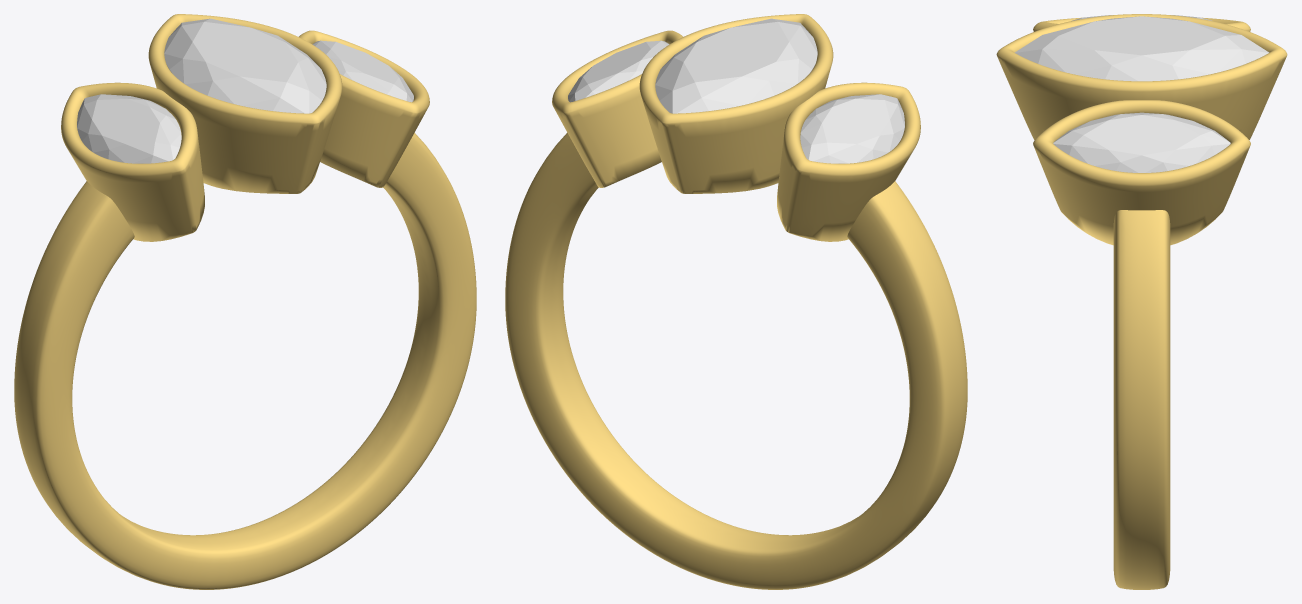
File: diamond-marquise-yellowgold-bezelset-straightband-3stone.glb
3 views of the same model, side by side, from view 1: azimuth 30°, elevation 25°; view 2: azimuth 150°, elevation 25°; view 3: azimuth 270°, elevation 25° (orthographic).
Parts seen in each view (by area): view 1: metal.002, stone.003, side.007, side.006; view 2: metal.002, stone.003, side.007, side.006; view 3: metal.002, stone.003, side.006.
Part boxes in pixels (box(x1,y1,x2,y2)): metal.002: box(14, 14, 476, 589); stone.003: box(164, 18, 326, 113); side.007: box(77, 94, 181, 163); side.006: box(312, 40, 413, 102); metal.002: box(505, 14, 967, 589); stone.003: box(655, 18, 817, 113); side.007: box(800, 94, 904, 163); side.006: box(568, 40, 669, 102); metal.002: box(996, 14, 1287, 589); stone.003: box(1014, 16, 1269, 81); side.006: box(1053, 112, 1230, 172).
Size of the model in its own units: 20.1 by 22.73 by 11.31.
